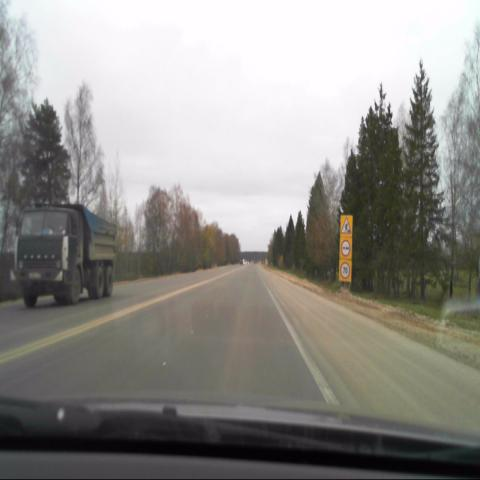3_20: (340, 237, 352, 258)
